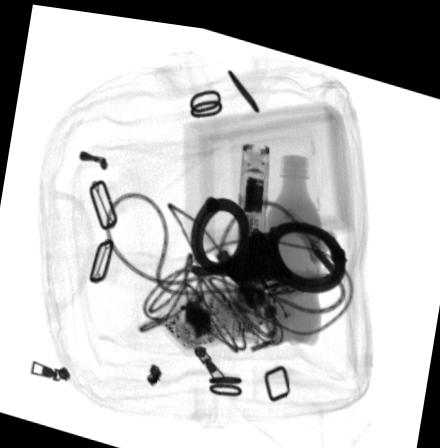Baton: (230, 135, 271, 337)
HandCuffs: (189, 187, 349, 283)
